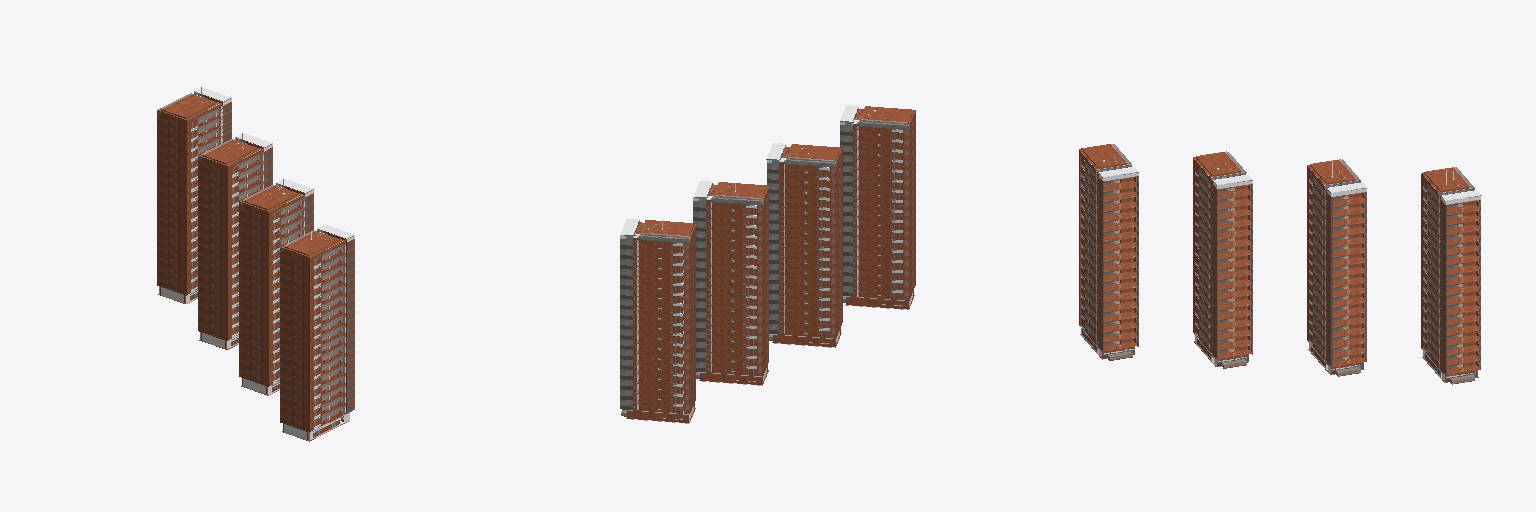
The picture shows the model from 3 angles: view 1: azimuth 30°, elevation 25°; view 2: azimuth 150°, elevation 25°; view 3: azimuth 270°, elevation 25°; orthographic projection.
Visible parts, largest first — view 1: Residential_Buildings_008.002_Cube.016; view 2: Residential_Buildings_008.002_Cube.016; view 3: Residential_Buildings_008.002_Cube.016.
Boxes of the visible parts, box(x1,y1,x2,y2) form: Residential_Buildings_008.002_Cube.016: box(157, 87, 354, 441); Residential_Buildings_008.002_Cube.016: box(620, 105, 915, 423); Residential_Buildings_008.002_Cube.016: box(1079, 144, 1481, 384).
Size of the model in its own units: 8.22 by 13.54 by 24.5.
1 materials, 1 textured.